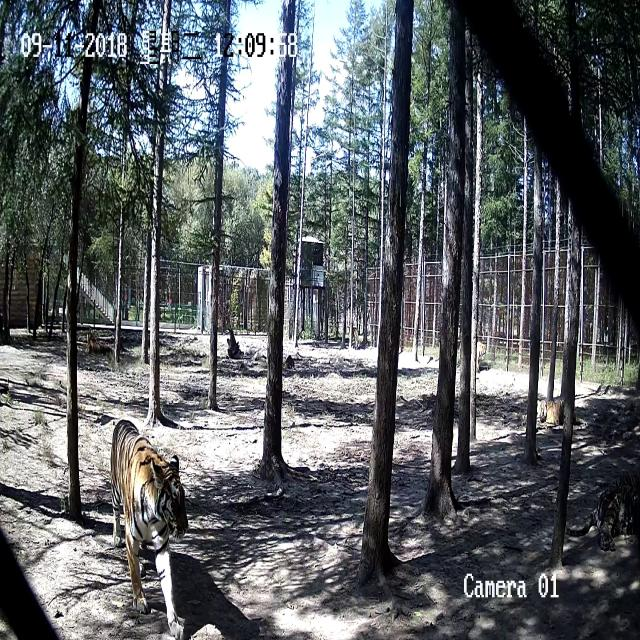Tiger: (100, 407, 200, 629), (534, 395, 584, 440)
